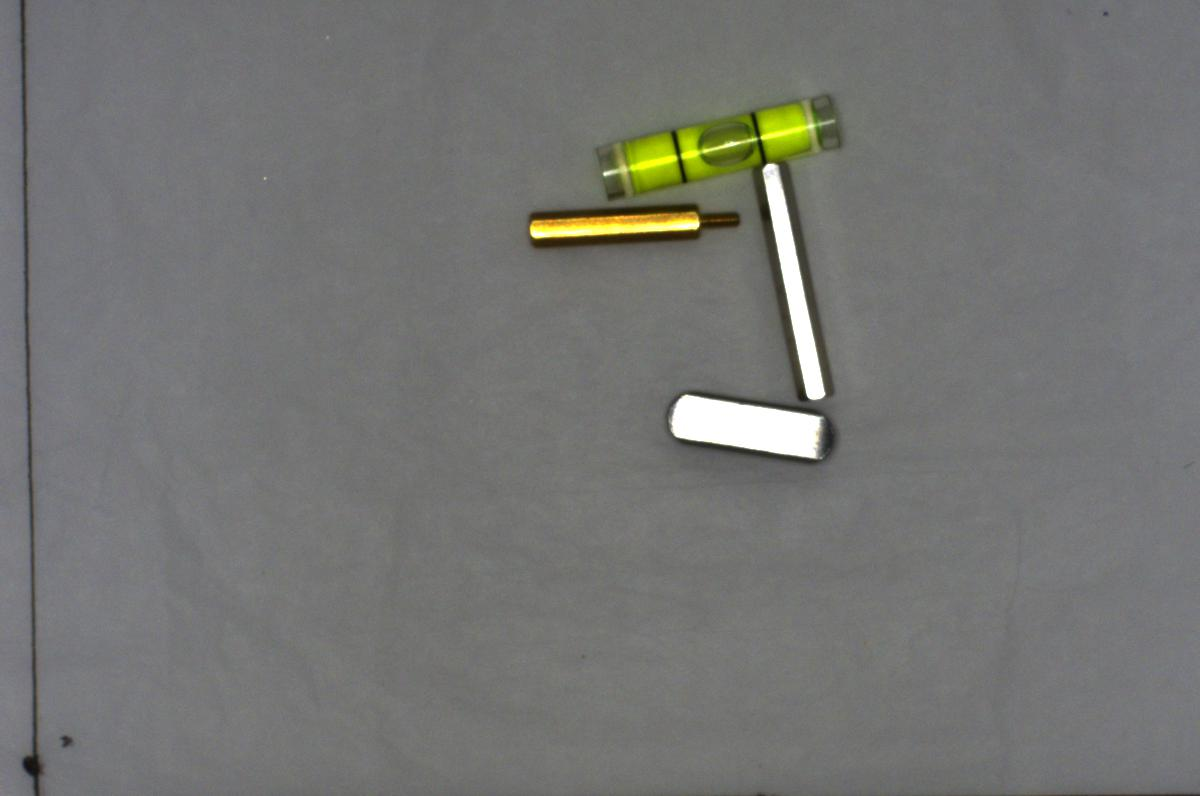Double hexagonal column: (755, 161, 841, 410)
Hexagon pillar: (524, 203, 744, 253)
Horizontal bubble: (601, 92, 840, 199)
Keybar: (658, 388, 845, 465)
